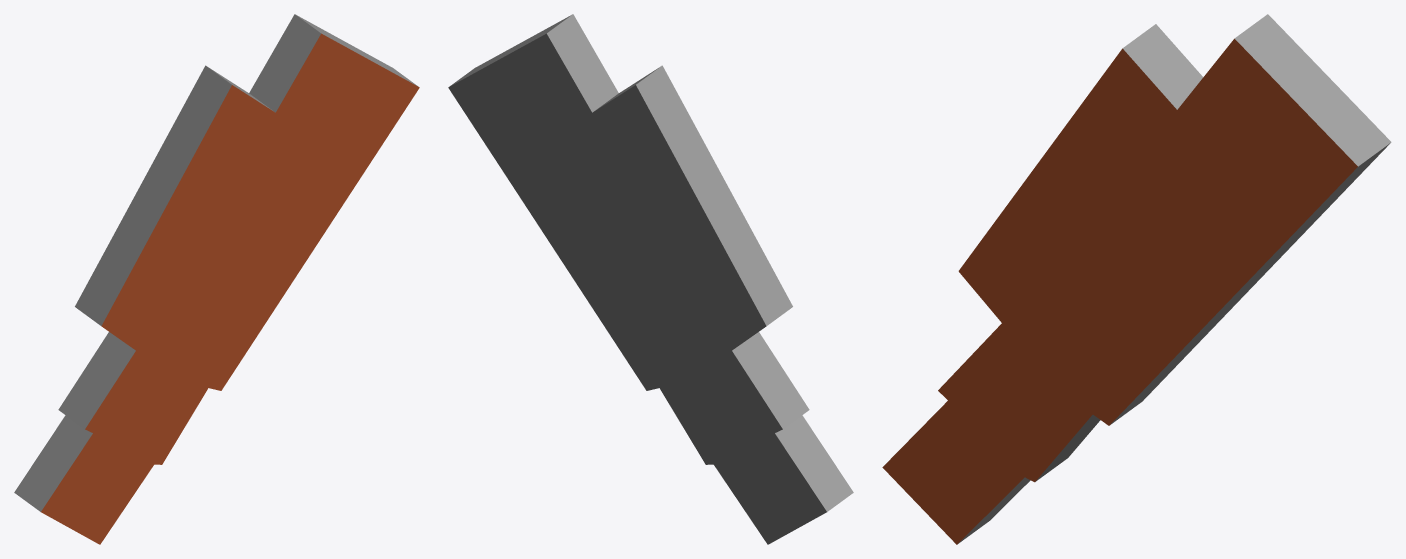
The model's file is construction_3504_assumed_A_Casa_h6m.obj.
The picture shows the model from 3 angles, left to right: view 1: azimuth 30°, elevation 25°; view 2: azimuth 150°, elevation 25°; view 3: azimuth 330°, elevation 25°; orthographic projection. The views are drawn at different scales.
Visible parts, largest first — view 1: construction_3504_assumed_A_Casa; view 2: construction_3504_assumed_A_Casa; view 3: construction_3504_assumed_A_Casa.
Boxes of the visible parts, x1=… form: construction_3504_assumed_A_Casa: x1=14, y1=14, x2=419, y2=544; construction_3504_assumed_A_Casa: x1=448, y1=14, x2=853, y2=544; construction_3504_assumed_A_Casa: x1=882, y1=14, x2=1391, y2=544.
Size of the model in its own units: 49.26 by 56.81 by 6.
